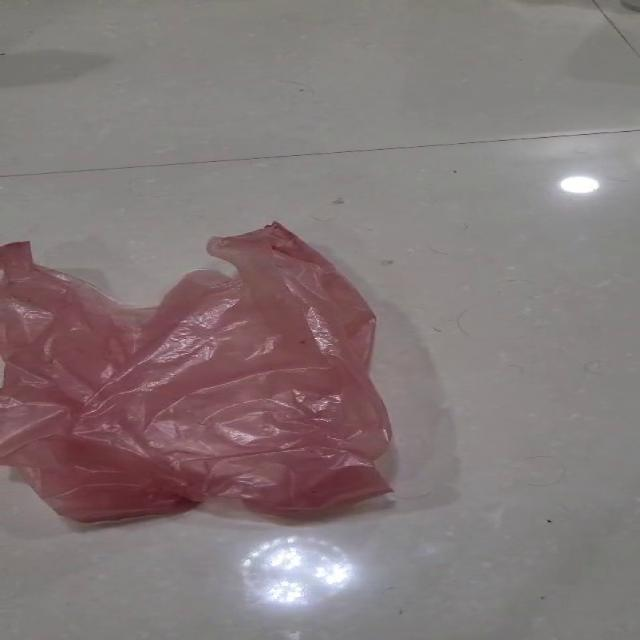plastic: (0, 220, 395, 523)
